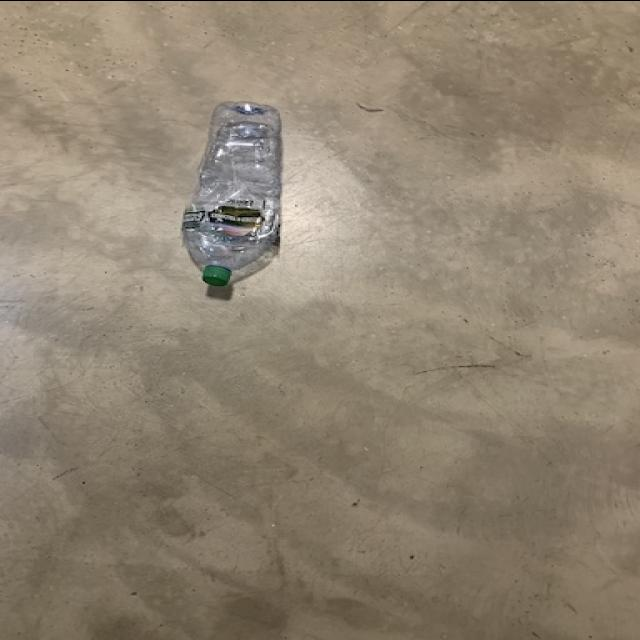PET: (176, 100, 282, 286)
